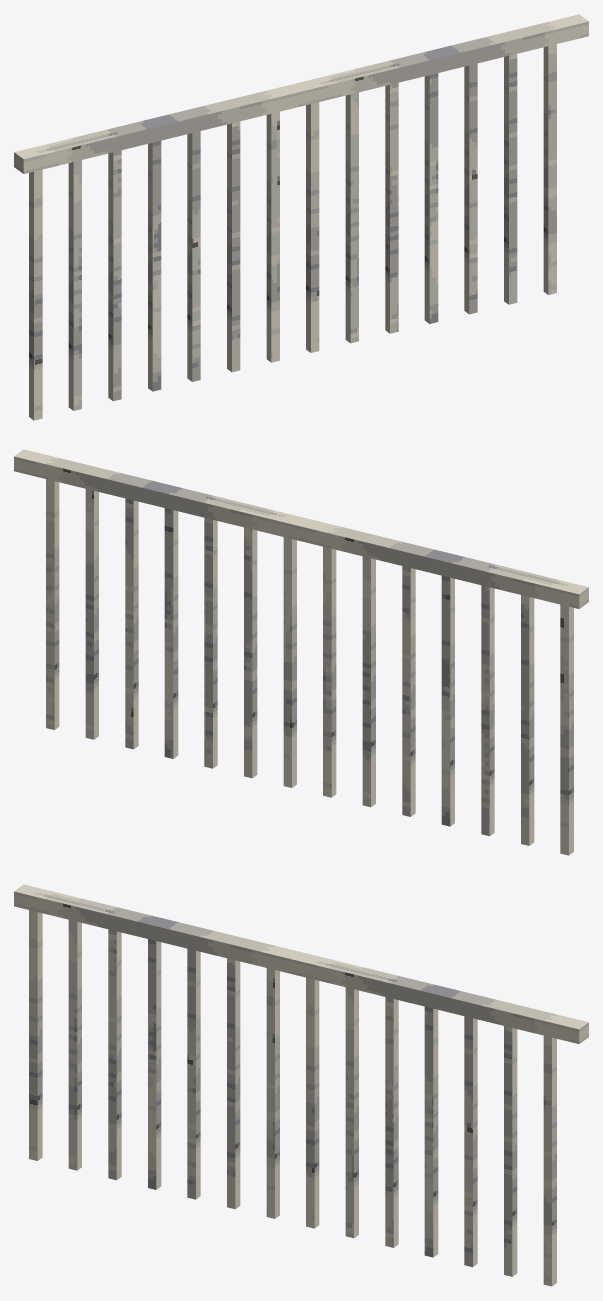
The model's file is RES_Ext_PorchRailing_2m.obj.
3 renders of one model, top to bottom at view 1: azimuth 30°, elevation 25°; view 2: azimuth 150°, elevation 25°; view 3: azimuth 330°, elevation 25°, orthographic.
Visible parts, largest first — view 1: RES_Ext_PorchRailing_2m; view 2: RES_Ext_PorchRailing_2m; view 3: RES_Ext_PorchRailing_2m.
Boxes of the visible parts, x1,y1,x2,y2 form: RES_Ext_PorchRailing_2m: (14, 14, 588, 420); RES_Ext_PorchRailing_2m: (14, 449, 588, 855); RES_Ext_PorchRailing_2m: (14, 884, 588, 1286).
Bounding box in the file's own units: 2 × 0.9 × 0.06.
Materials: 1 (1 with a texture image).
